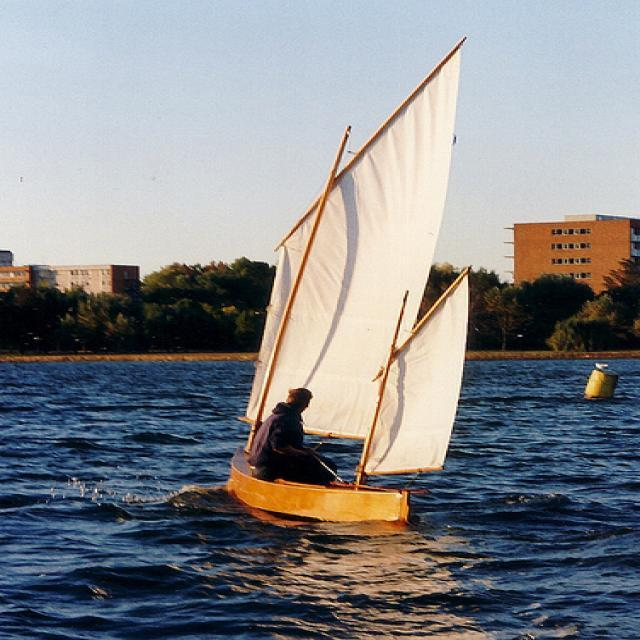Ship: (183, 36, 481, 539)
